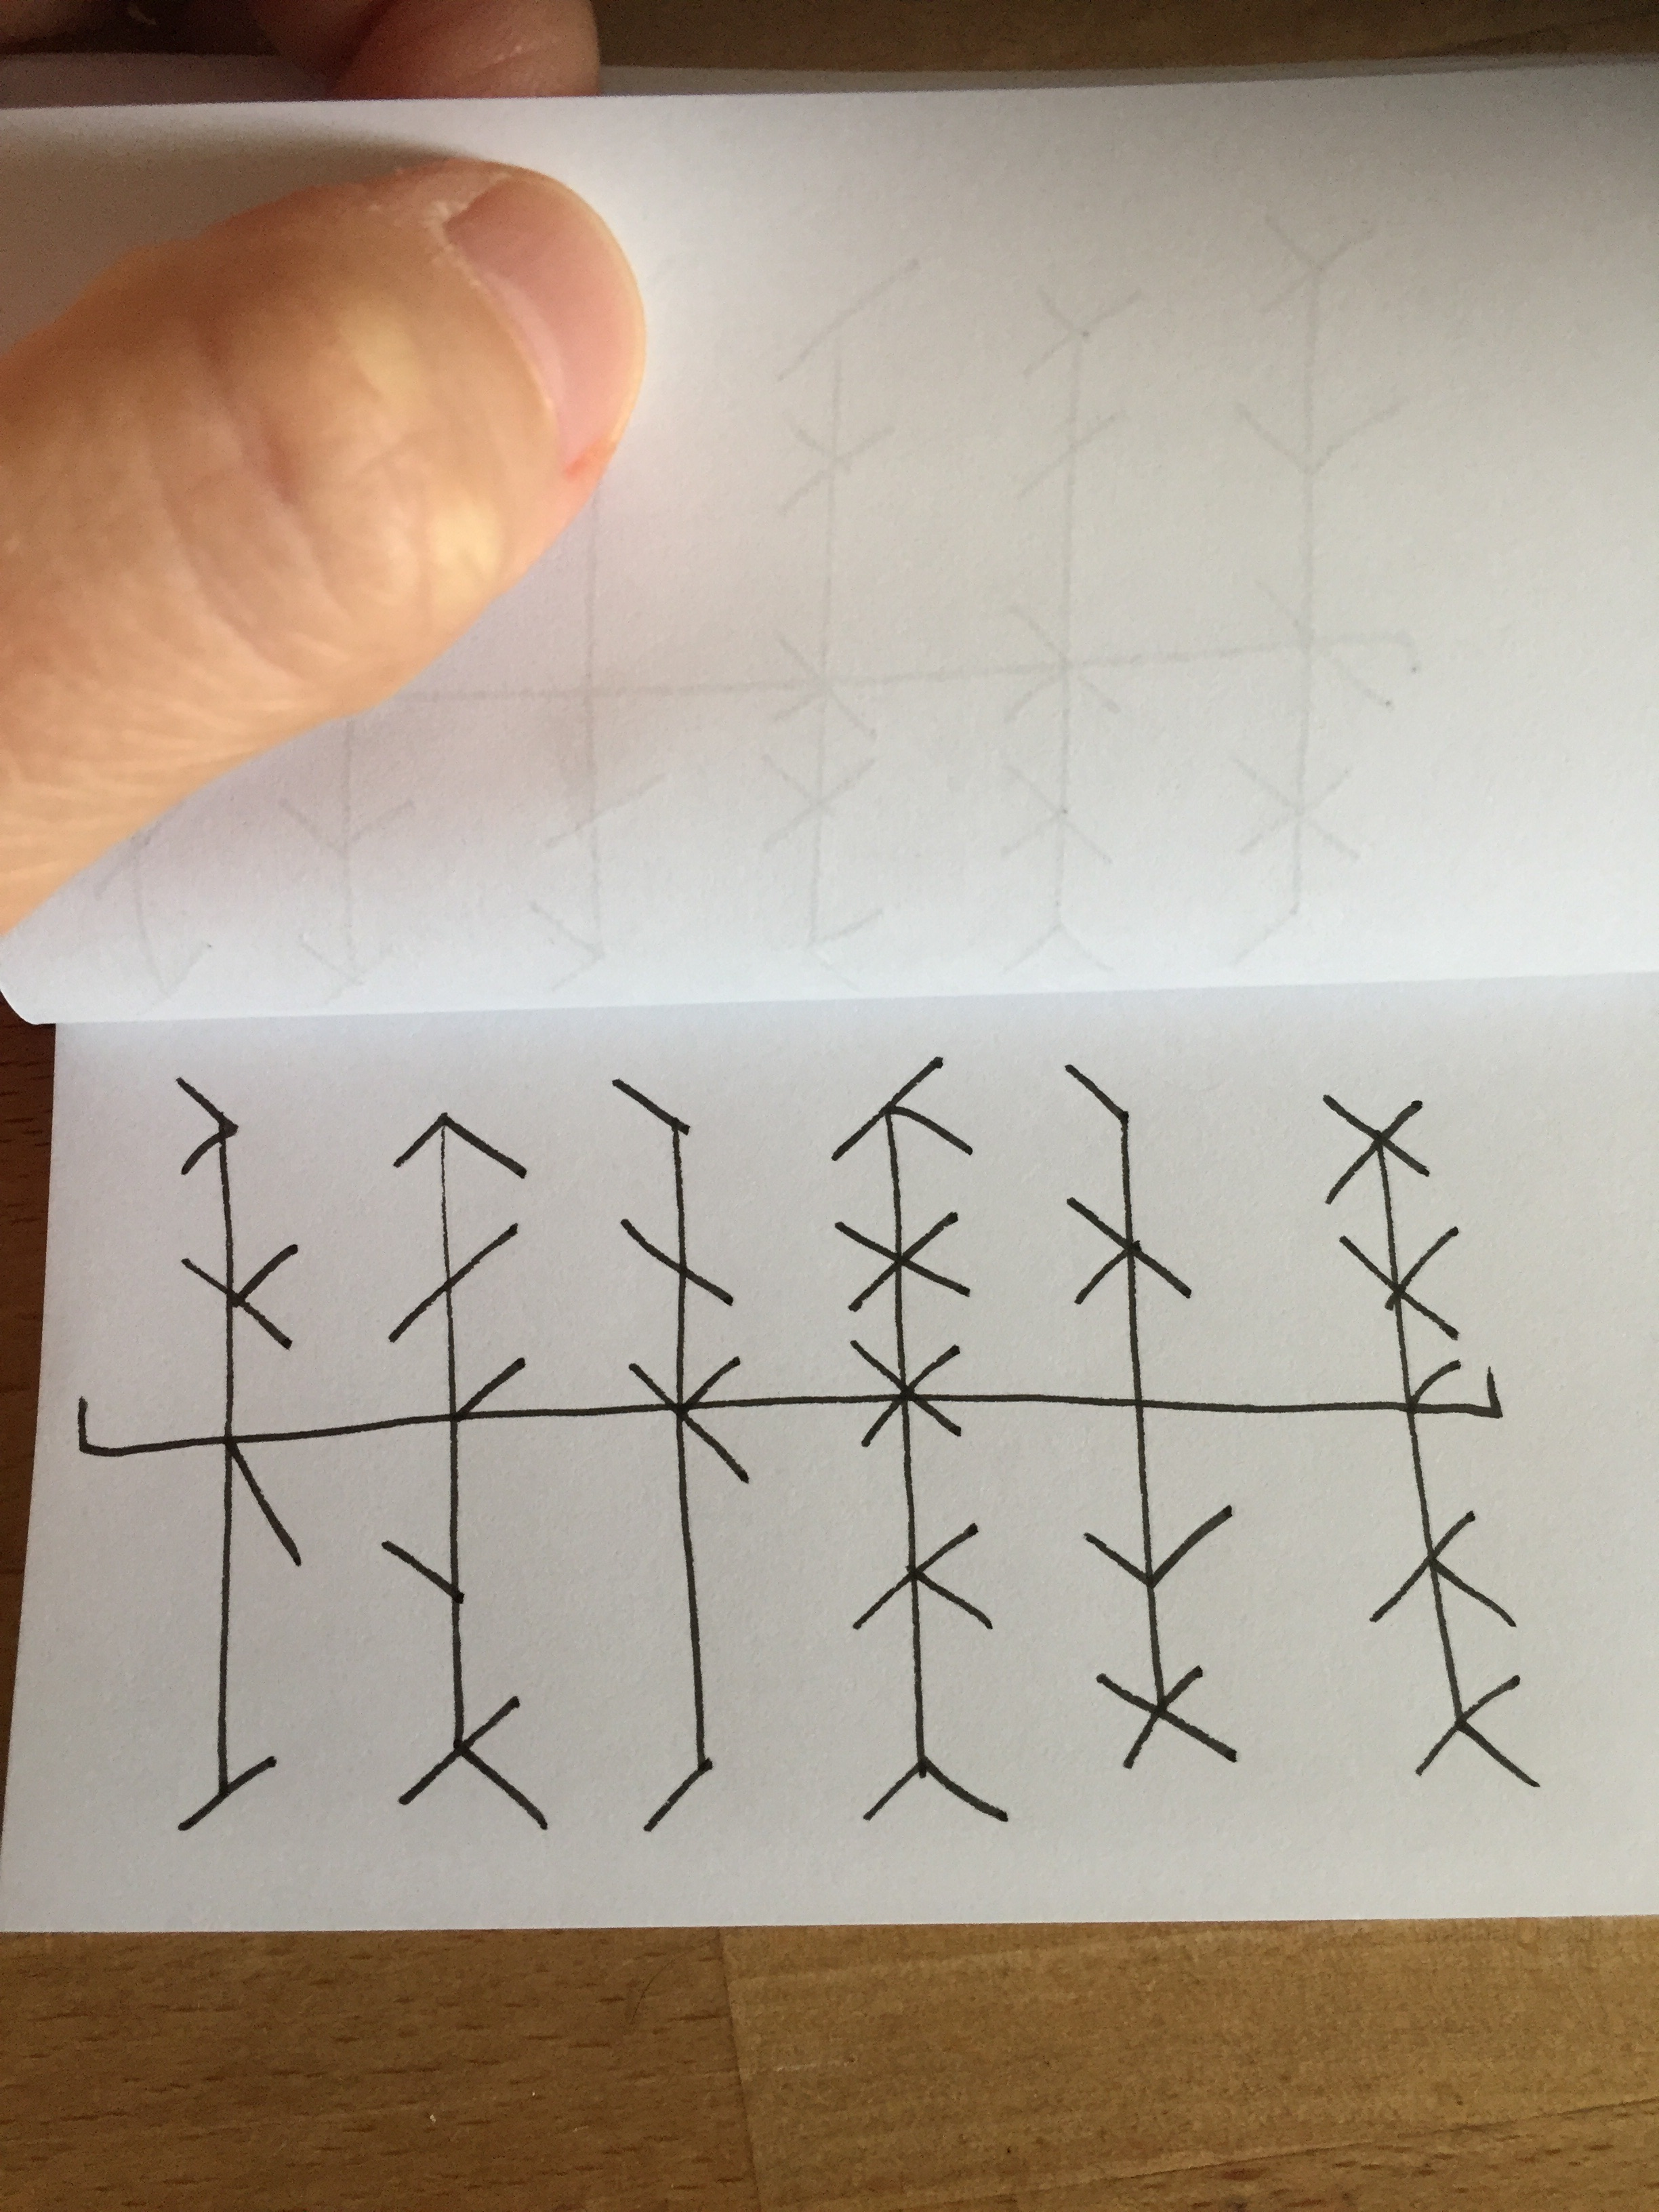Bar: (1323, 1096, 1541, 1791), (829, 1055, 1012, 1825), (1063, 1062, 1241, 1770), (382, 1113, 551, 1832), (610, 1078, 749, 1831), (174, 1076, 303, 1831)
Barcode: (77, 1054, 1542, 1832)
End: (1464, 1362, 1506, 1423)
Start: (78, 1397, 223, 1458)
